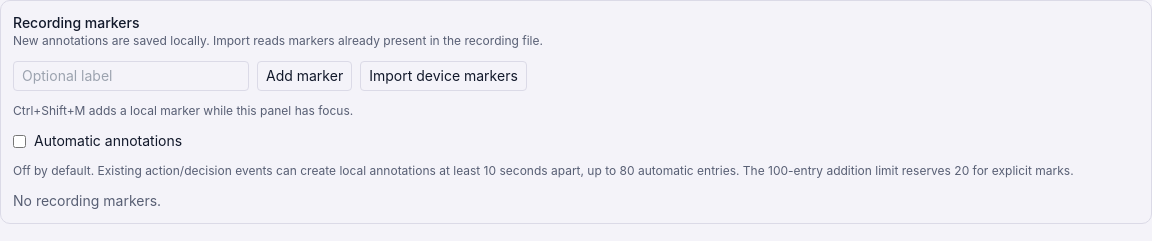
Test: DeviceRecordingMarkers › persists explicit automation opt-in and displays policy limits
What coordinates should you click on to do the following:
click the checkbox labelled "Automatic annotations"
I would click on:
 (20, 141)
Its box is [13, 134, 26, 148].
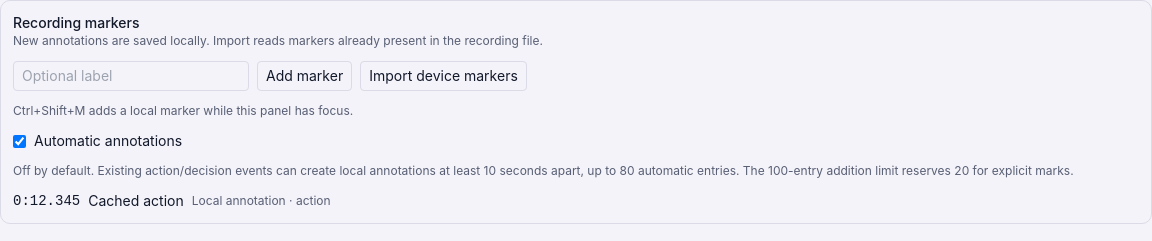
Expected: the text "at least 10 seconds apart, up to 80" is shown, [13, 163, 1074, 178]
Expected: the checkbox labelled "Automatic annotations" is checked, [13, 134, 26, 148]
Expected: the text "Cached action" is shown, [88, 191, 184, 211]
